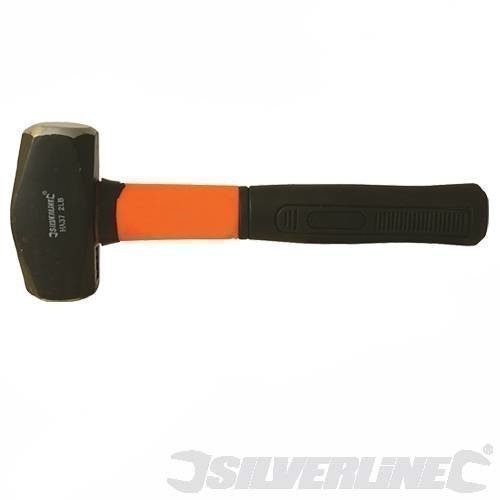hammer: (7, 119, 491, 304)
